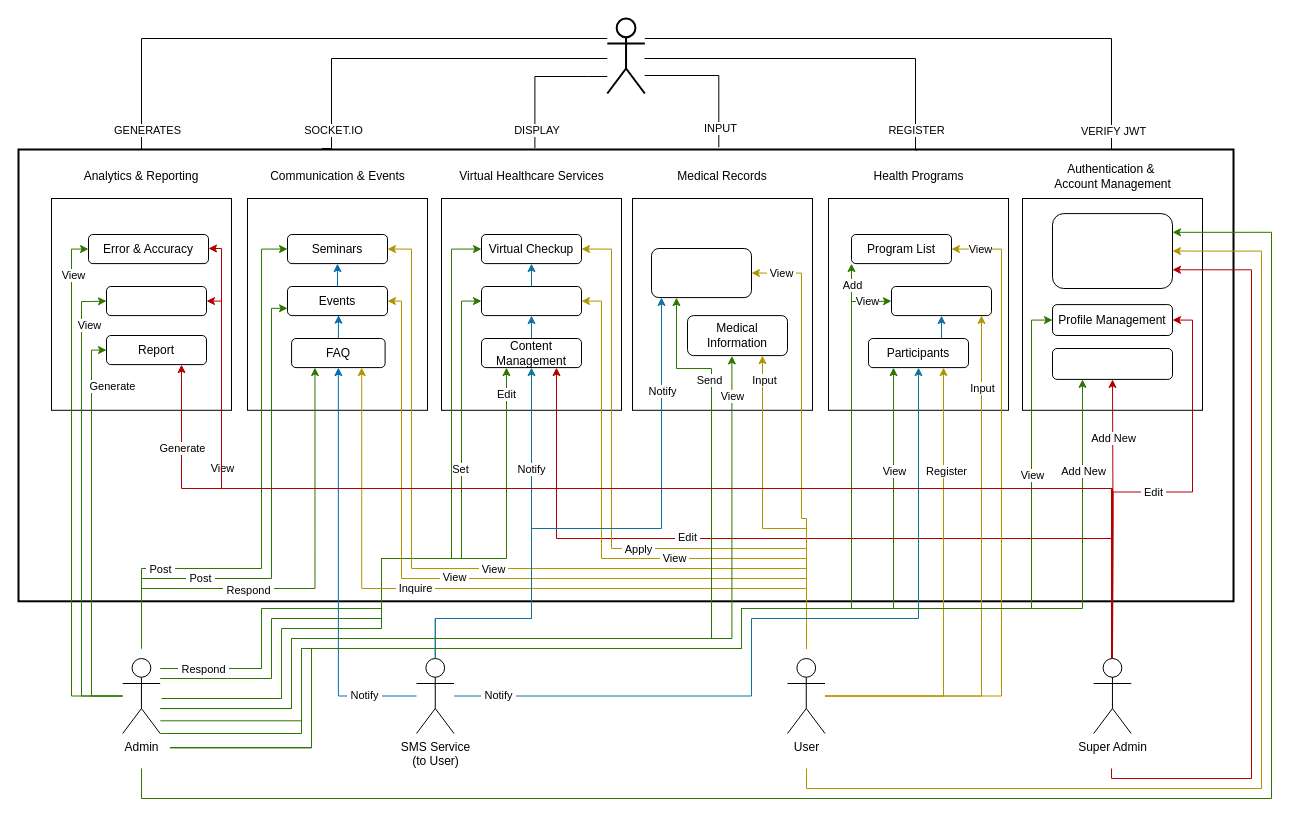
This 1297x824 diagram has some shape labels left out. The shapes that lost their labels are listed below. From the top down, each one's centre as x and y in pixels, then its label:
At [625,55]: "System".
At [1112,250]: "Jason Web Token Validation".
At [701,273]: "Treatment Response".
At [156,301]: "Overview".
At [531,301]: "Schedule Slot".
At [941,301]: "Medical Forms".
At [1112,363]: "User Registration".
